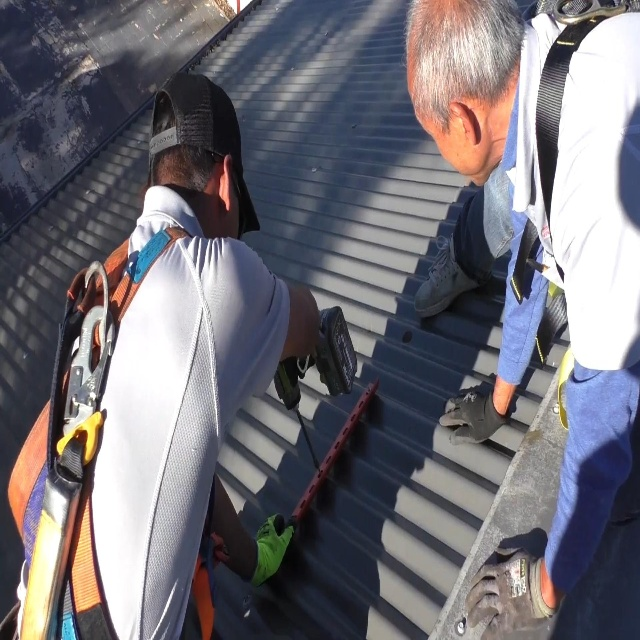Arnes_seguridad: (4, 206, 213, 640)
